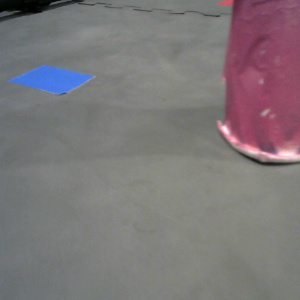Right: (222, 1, 300, 165)
